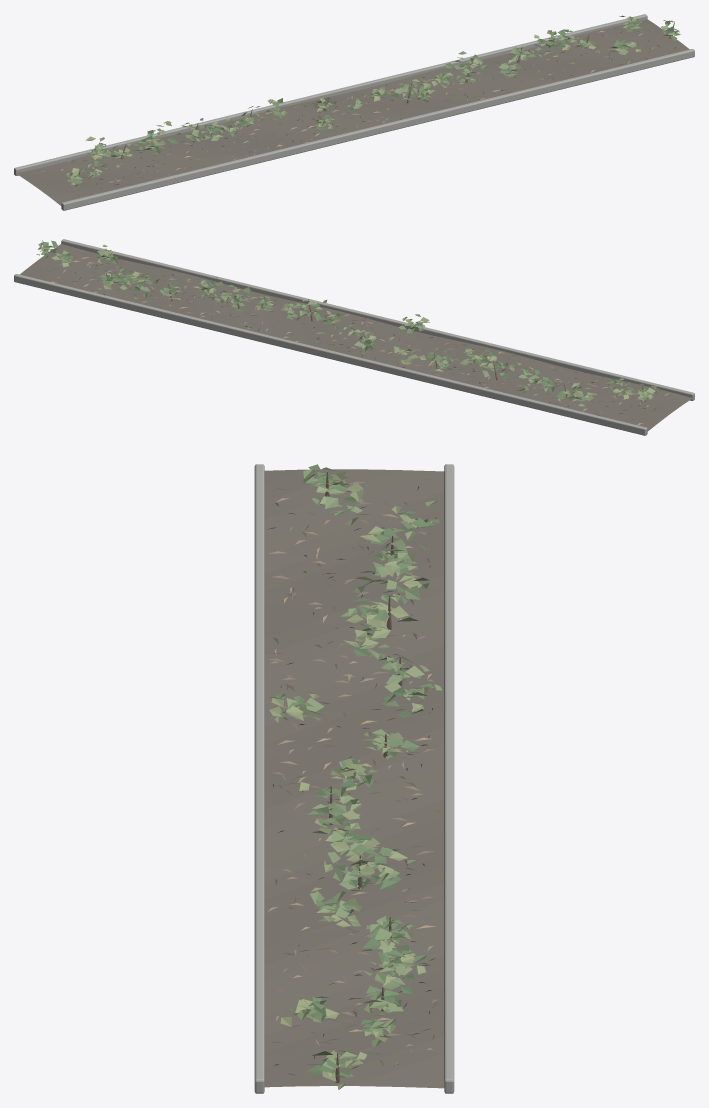
File: r6b2c-pas-fundamentowy-12m.glb
3 views of the same model, one above another, from view 1: azimuth 30°, elevation 25°; view 2: azimuth 150°, elevation 25°; view 3: azimuth 270°, elevation 25° (orthographic). The views are drawn at different scales.
Parts seen in each view (by area): view 1: Rabata przy fundamencie 12 m R6C Cienisty podklad, Rabata przy fundamencie 12 m R6C Obrzeze przyfundamentowe, Rabata przy fundamencie 12 m R6C Liscie okrywowe 1, Rabata przy fundamencie 12 m R6C Liscie okrywowe 0, Rabata przy fundamencie 12 m R6C Liscie okrywowe 2, Rabata przy fundamencie 12 m R6C Naturalny mulcz 1, Rabata przy fundamencie 12 m R6C Naturalny mulcz 0, Rabata przy fundamencie 12 m R6C Naturalny mulcz 2; view 2: Rabata przy fundamencie 12 m R6C Cienisty podklad, Rabata przy fundamencie 12 m R6C Obrzeze przyfundamentowe, Rabata przy fundamencie 12 m R6C Liscie okrywowe 0, Rabata przy fundamencie 12 m R6C Liscie okrywowe 1, Rabata przy fundamencie 12 m R6C Liscie okrywowe 2, Rabata przy fundamencie 12 m R6C Naturalny mulcz 1, Rabata przy fundamencie 12 m R6C Naturalny mulcz 0, Rabata przy fundamencie 12 m R6C Naturalny mulcz 2; view 3: Rabata przy fundamencie 12 m R6C Cienisty podklad, Rabata przy fundamencie 12 m R6C Obrzeze przyfundamentowe, Rabata przy fundamencie 12 m R6C Liscie okrywowe 2, Rabata przy fundamencie 12 m R6C Liscie okrywowe 1, Rabata przy fundamencie 12 m R6C Liscie okrywowe 0, Rabata przy fundamencie 12 m R6C Naturalny mulcz 1, Rabata przy fundamencie 12 m R6C Naturalny mulcz 0, Rabata przy fundamencie 12 m R6C Naturalny mulcz 2.
Part boxes in pixels (<box>): Rabata przy fundamencie 12 m R6C Cienisty podklad: <box>16,19,689,205</box>; Rabata przy fundamencie 12 m R6C Obrzeze przyfundamentowe: <box>14,14,694,210</box>; Rabata przy fundamencie 12 m R6C Liscie okrywowe 1: <box>66,15,680,185</box>; Rabata przy fundamencie 12 m R6C Liscie okrywowe 0: <box>66,20,679,184</box>; Rabata przy fundamencie 12 m R6C Liscie okrywowe 2: <box>67,16,679,181</box>; Rabata przy fundamencie 12 m R6C Naturalny mulcz 1: <box>30,27,670,184</box>; Rabata przy fundamencie 12 m R6C Naturalny mulcz 0: <box>68,33,654,197</box>; Rabata przy fundamencie 12 m R6C Naturalny mulcz 2: <box>41,30,675,197</box>; Rabata przy fundamencie 12 m R6C Cienisty podklad: <box>20,244,692,431</box>; Rabata przy fundamencie 12 m R6C Obrzeze przyfundamentowe: <box>14,239,694,435</box>; Rabata przy fundamencie 12 m R6C Liscie okrywowe 0: <box>41,240,656,400</box>; Rabata przy fundamencie 12 m R6C Liscie okrywowe 1: <box>36,242,658,406</box>; Rabata przy fundamencie 12 m R6C Liscie okrywowe 2: <box>38,245,655,401</box>; Rabata przy fundamencie 12 m R6C Naturalny mulcz 1: <box>51,249,648,425</box>; Rabata przy fundamencie 12 m R6C Naturalny mulcz 0: <box>52,258,669,415</box>; Rabata przy fundamencie 12 m R6C Naturalny mulcz 2: <box>46,249,668,420</box>; Rabata przy fundamencie 12 m R6C Cienisty podklad: <box>264,469,444,1088</box>; Rabata przy fundamencie 12 m R6C Obrzeze przyfundamentowe: <box>254,464,454,1093</box>; Rabata przy fundamencie 12 m R6C Liscie okrywowe 2: <box>269,467,442,1081</box>; Rabata przy fundamencie 12 m R6C Liscie okrywowe 1: <box>269,464,439,1089</box>; Rabata przy fundamencie 12 m R6C Liscie okrywowe 0: <box>276,472,435,1077</box>; Rabata przy fundamencie 12 m R6C Naturalny mulcz 1: <box>271,478,436,1065</box>; Rabata przy fundamencie 12 m R6C Naturalny mulcz 0: <box>268,488,437,1065</box>; Rabata przy fundamencie 12 m R6C Naturalny mulcz 2: <box>267,481,443,1075</box>.
Bounding box in the file's own units: 12.13 × 0.5164 × 1.64.
